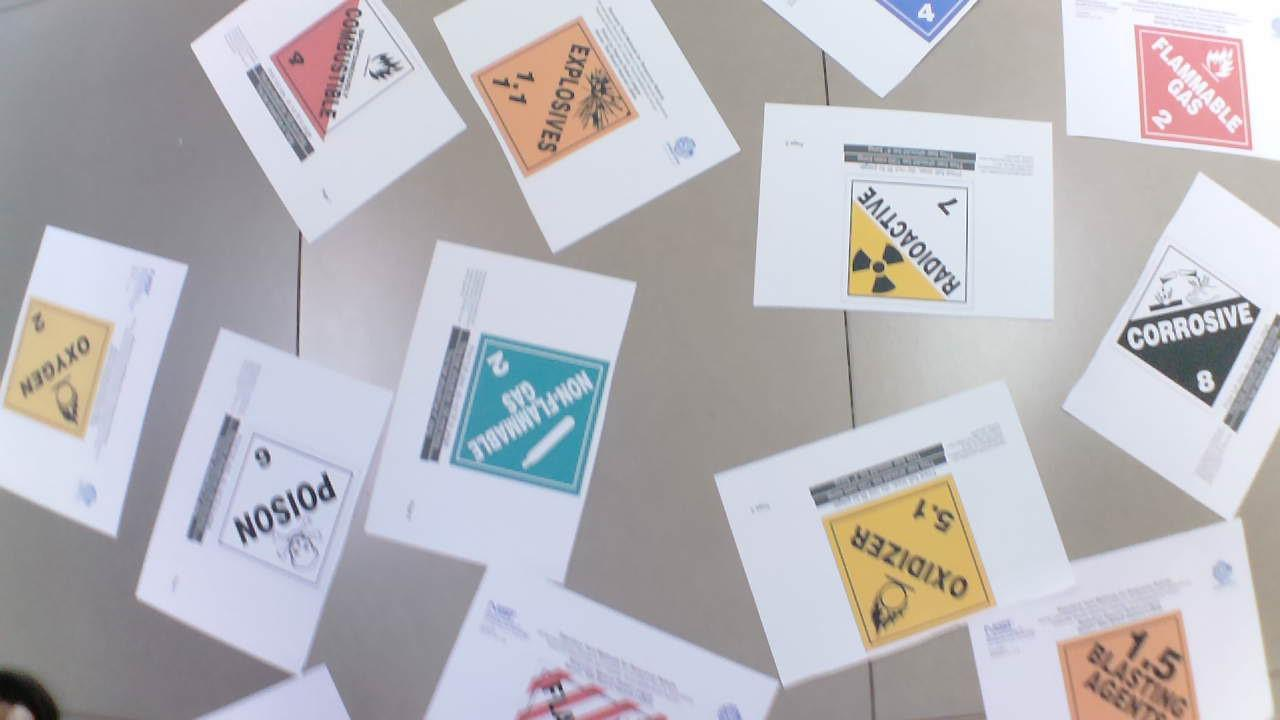corrosive: (1114, 244, 1261, 414)
dangerous-when-wet: (860, 1, 986, 43)
explosive: (460, 18, 650, 176), (1054, 611, 1215, 720)
flammable: (1120, 24, 1261, 153)
flammable-solid: (503, 653, 682, 720)
non-flammable-gas: (436, 328, 611, 495)
oxidizer: (813, 476, 997, 648), (6, 290, 120, 444)
poison: (216, 428, 364, 591)
radioactive: (836, 177, 989, 307)
spontaneously-combustible: (262, 1, 422, 134)
